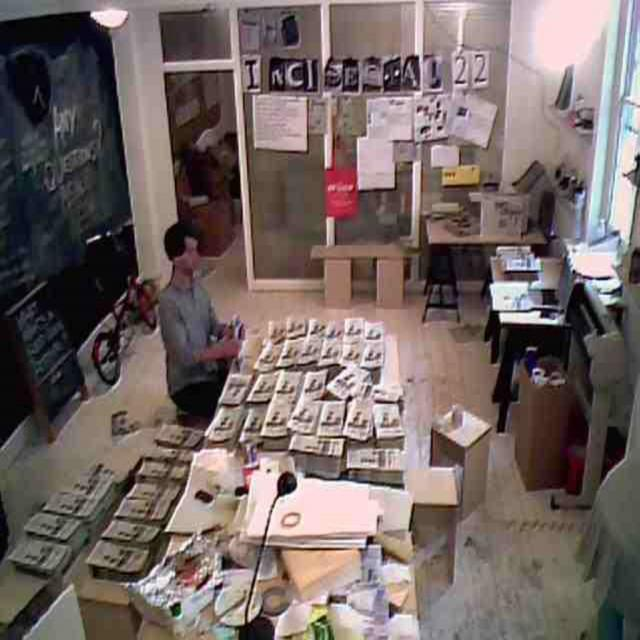chair: (421, 246, 462, 324)
desk: (475, 244, 599, 405)
